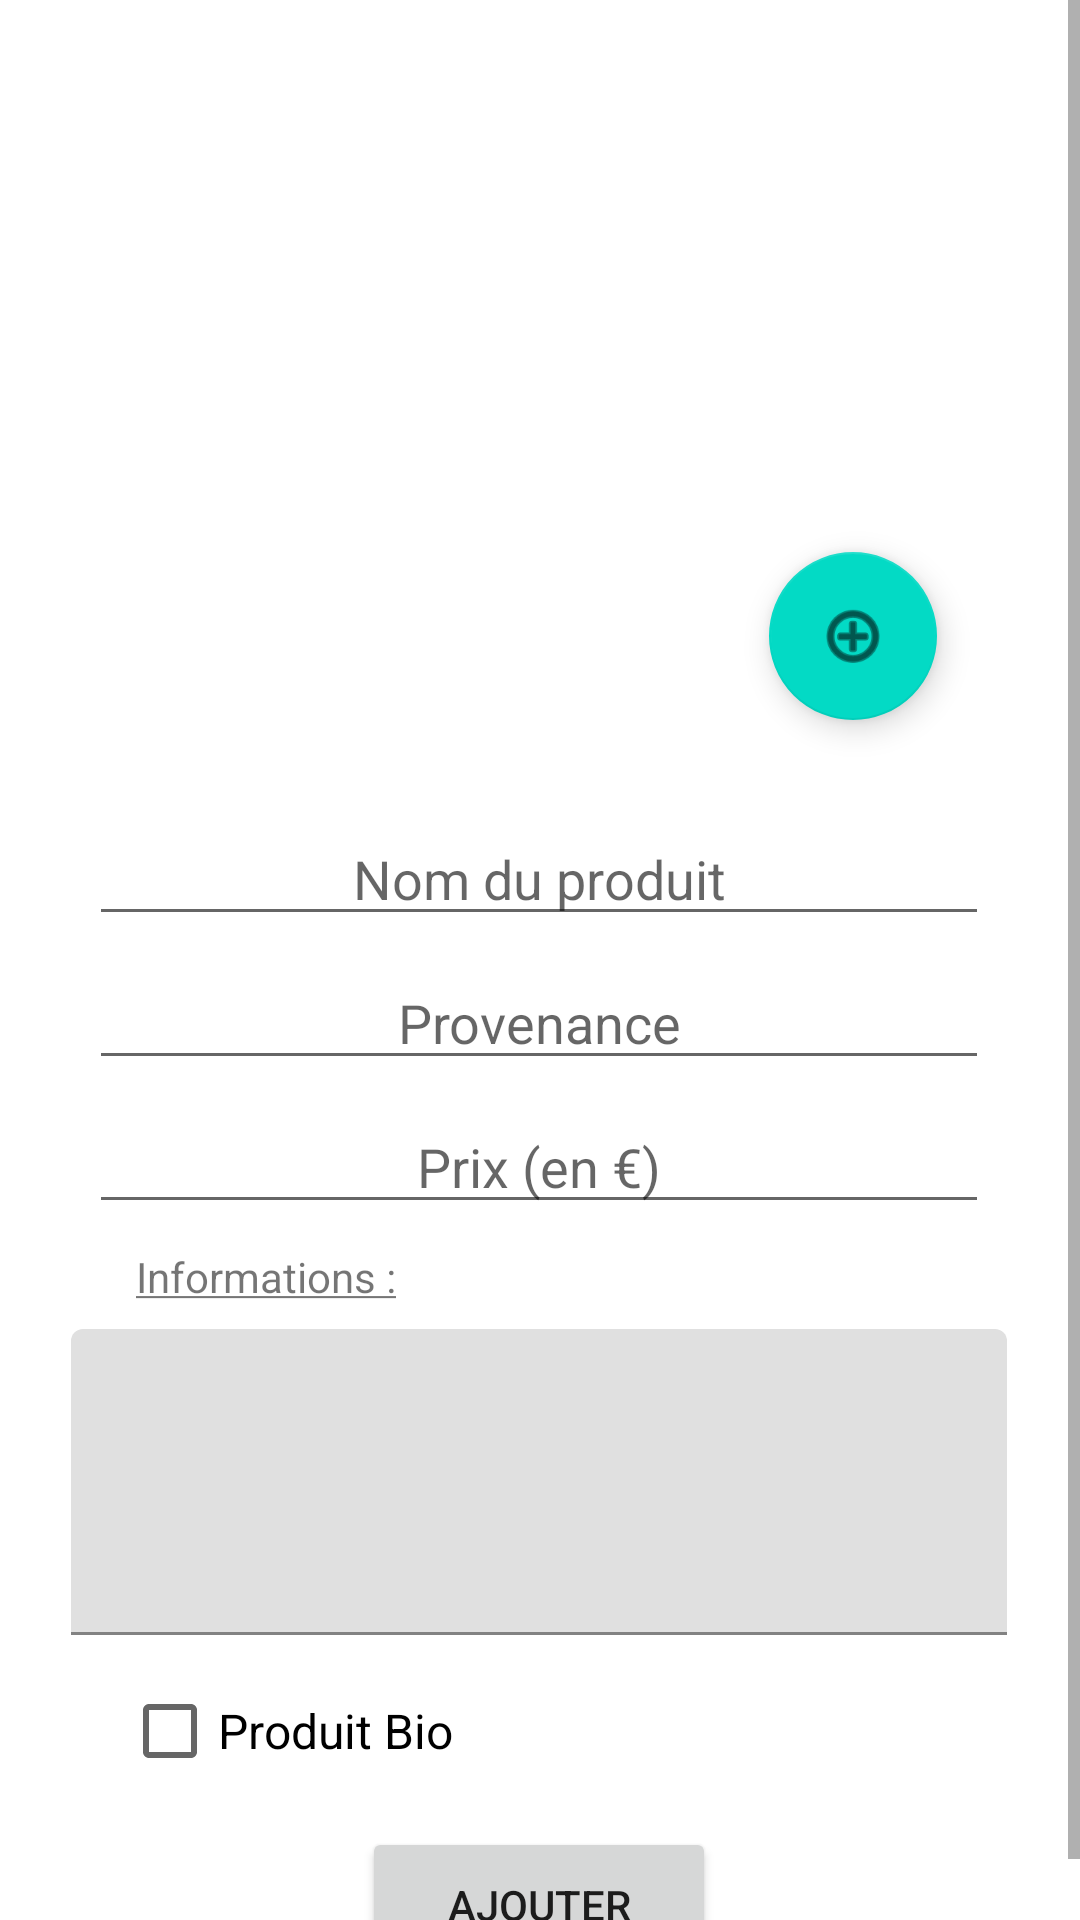

Icons on this 1080px x 1920px Android screen, each with its box as BBox(x1, y1, x2, y2):
add: BBox(769, 552, 937, 720)
